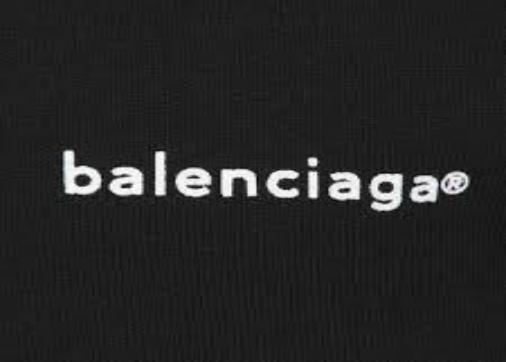BALENCIAGA: (56, 146, 443, 215)
